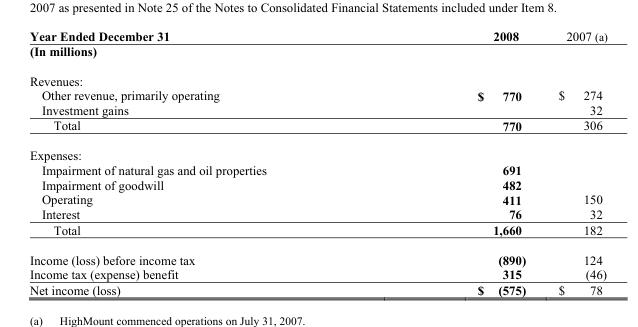table: (28, 28, 606, 296)
table column: (28, 28, 371, 296), (371, 28, 541, 296), (541, 28, 606, 296)
table column header: (28, 28, 606, 43)
table projected row header: (28, 43, 606, 65), (28, 65, 606, 87), (28, 140, 606, 162)
table row: (28, 117, 606, 140), (28, 221, 606, 244), (28, 43, 606, 65), (28, 65, 606, 87), (28, 140, 606, 162), (28, 244, 606, 266), (28, 28, 606, 43), (28, 87, 606, 102), (28, 102, 606, 117), (28, 162, 606, 177), (28, 191, 606, 206), (28, 206, 606, 221), (28, 266, 606, 281), (28, 281, 606, 296), (28, 177, 606, 191)
